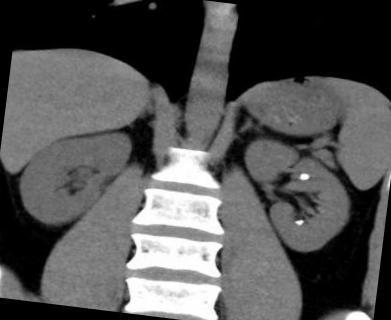Tas_Var: (293, 216, 306, 226), (298, 170, 310, 180)
